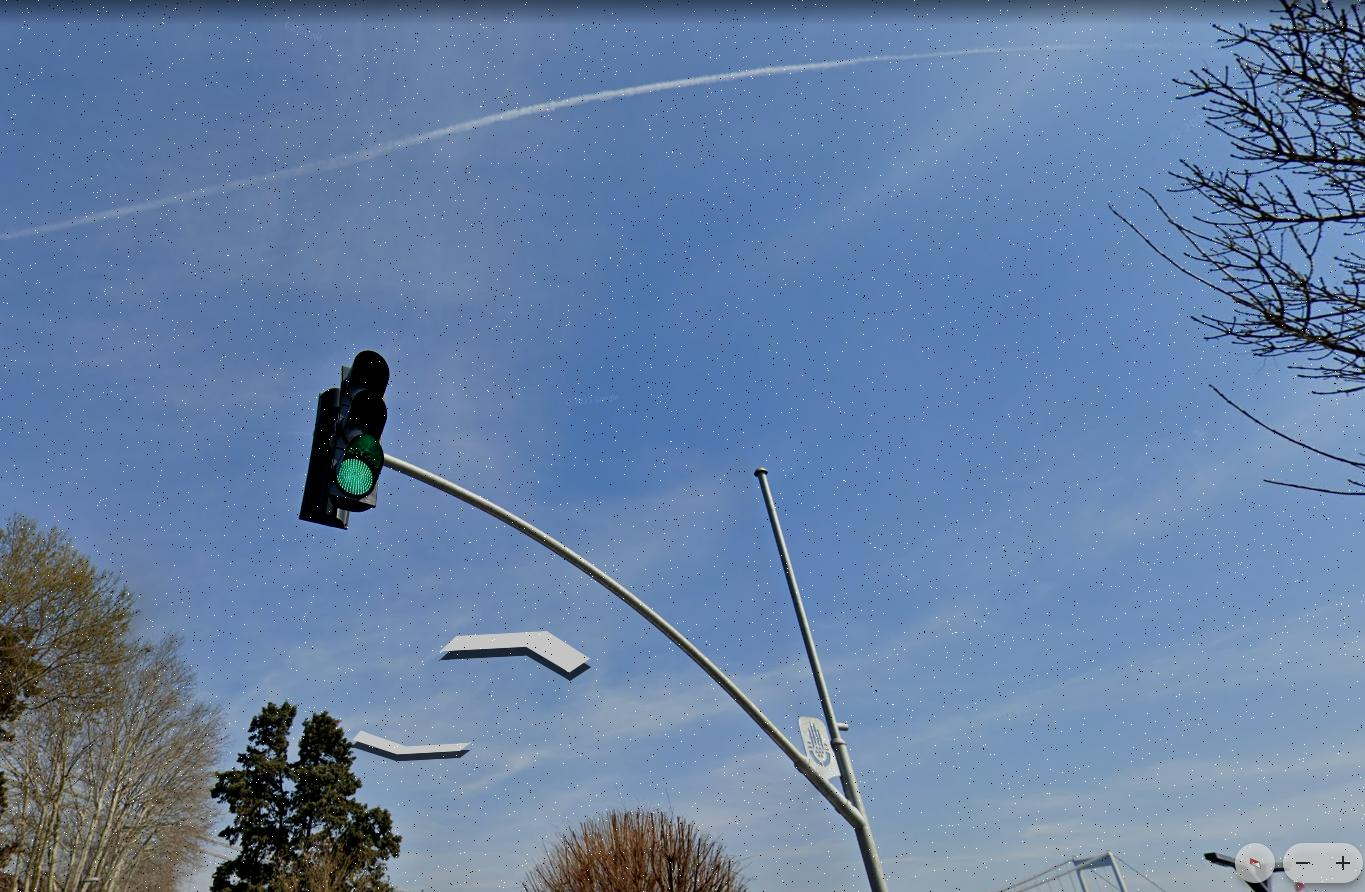greenlight: (312, 358, 389, 528)
